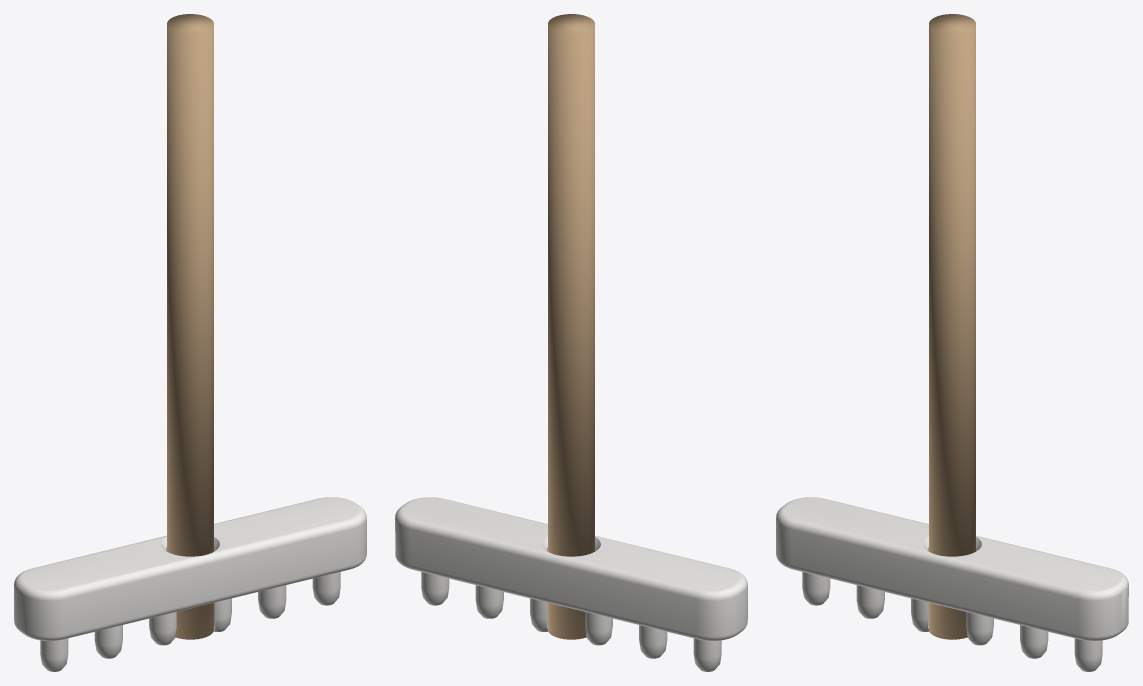
File: rastelo.glb
3 views of the same model, side by side, from view 1: azimuth 30°, elevation 25°; view 2: azimuth 150°, elevation 25°; view 3: azimuth 330°, elevation 25° (orthographic).
Visible parts, largest first — view 1: rastelo-cabeca, Vareta; view 2: rastelo-cabeca, Vareta; view 3: rastelo-cabeca, Vareta.
Boxes of the visible parts, left/top/right/bottom form: rastelo-cabeca: left=14, top=497, right=366, bottom=671; Vareta: left=167, top=14, right=213, bottom=639; rastelo-cabeca: left=395, top=497, right=747, bottom=671; Vareta: left=548, top=14, right=594, bottom=639; rastelo-cabeca: left=776, top=497, right=1128, bottom=671; Vareta: left=929, top=14, right=975, bottom=639.
Bounding box in the file's own units: 0.05 × 0.086 × 0.009.
